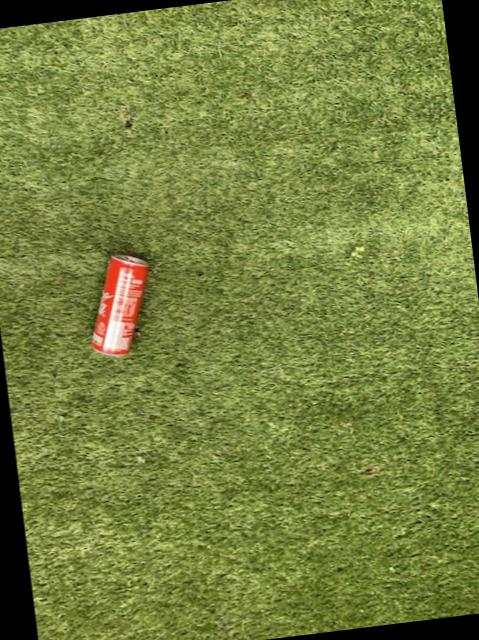metal: (90, 252, 146, 353)
